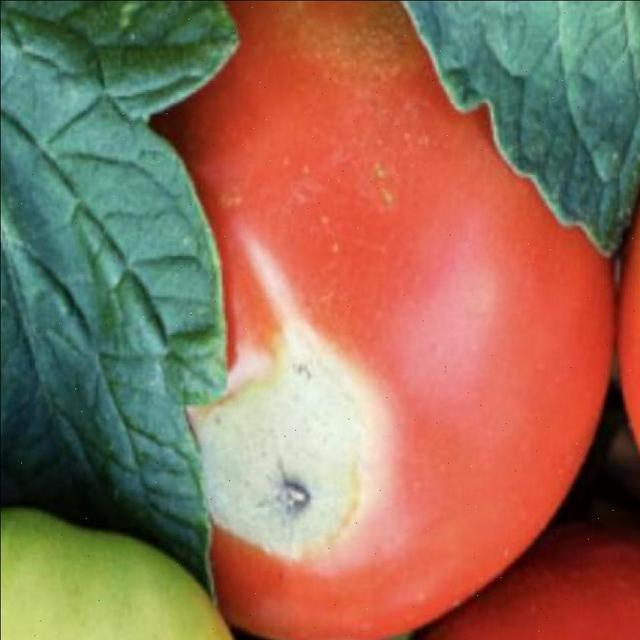Blossom End Rot Fruit: (126, 235, 251, 387)
